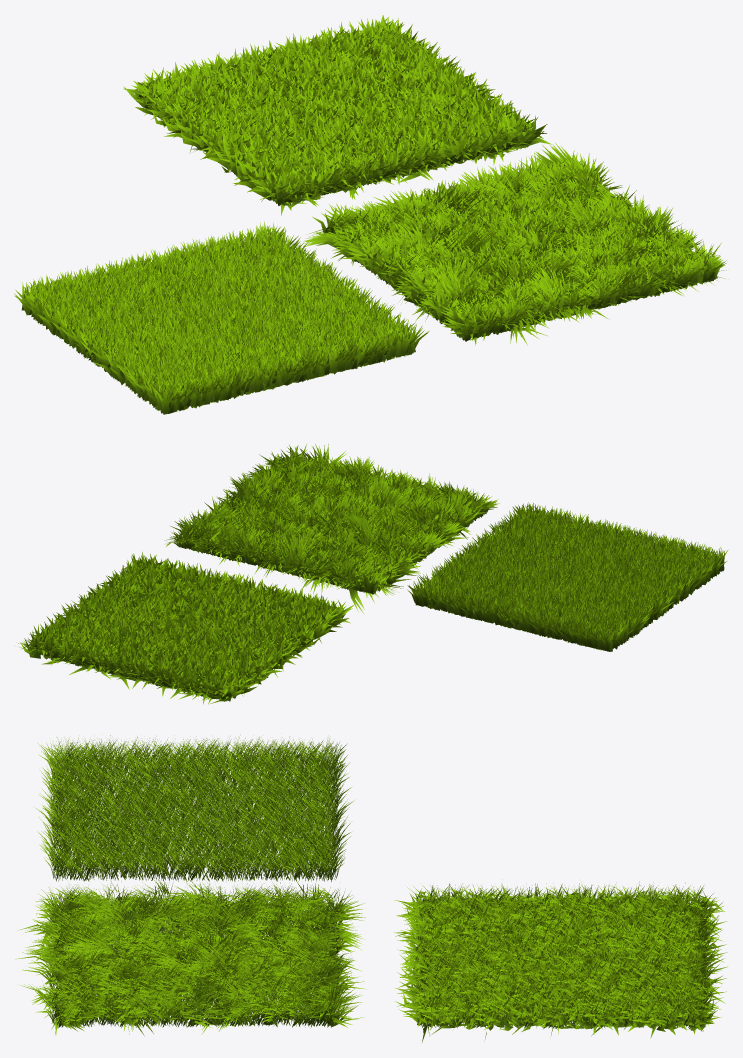
File: grass_ground_cover.fbx
3 renders of one model, top to bottom at view 1: azimuth 30°, elevation 25°; view 2: azimuth 150°, elevation 25°; view 3: azimuth 270°, elevation 25°, orthographic. The views are drawn at different scales.
Parts seen in each view (by area): view 1: grass3, grass1, grass2; view 2: grass3, grass1, grass2; view 3: grass3, grass1, grass2.
Boxes of the visible parts, bbox=[...] form: grass3: bbox=[123, 15, 551, 215]; grass1: bbox=[303, 143, 726, 345]; grass2: bbox=[14, 221, 429, 414]; grass3: bbox=[18, 552, 354, 704]; grass1: bbox=[164, 444, 499, 613]; grass2: bbox=[407, 502, 728, 651]; grass3: bbox=[394, 881, 727, 1042]; grass1: bbox=[15, 879, 366, 1035]; grass2: bbox=[36, 735, 354, 881].
Size of the model in its own units: 237 by 22.16 by 252.
Materials: 1 (1 with a texture image).
